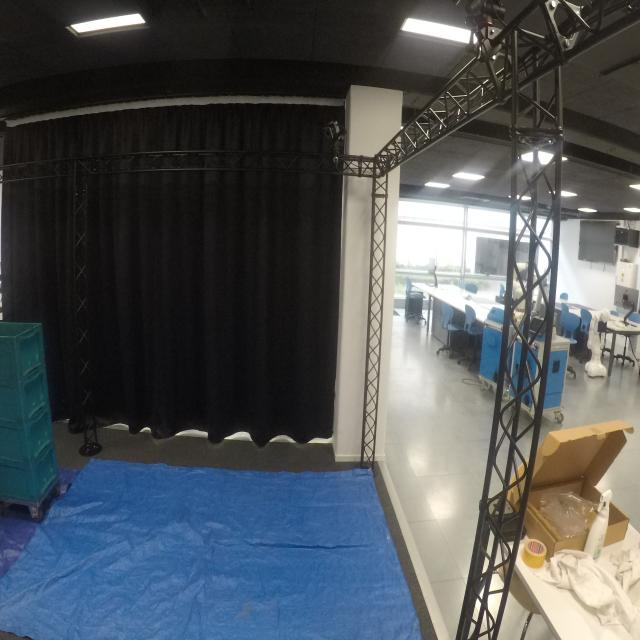BoxB4: (0, 444, 59, 498), (0, 406, 54, 460), (0, 364, 51, 417), (0, 324, 43, 379)
